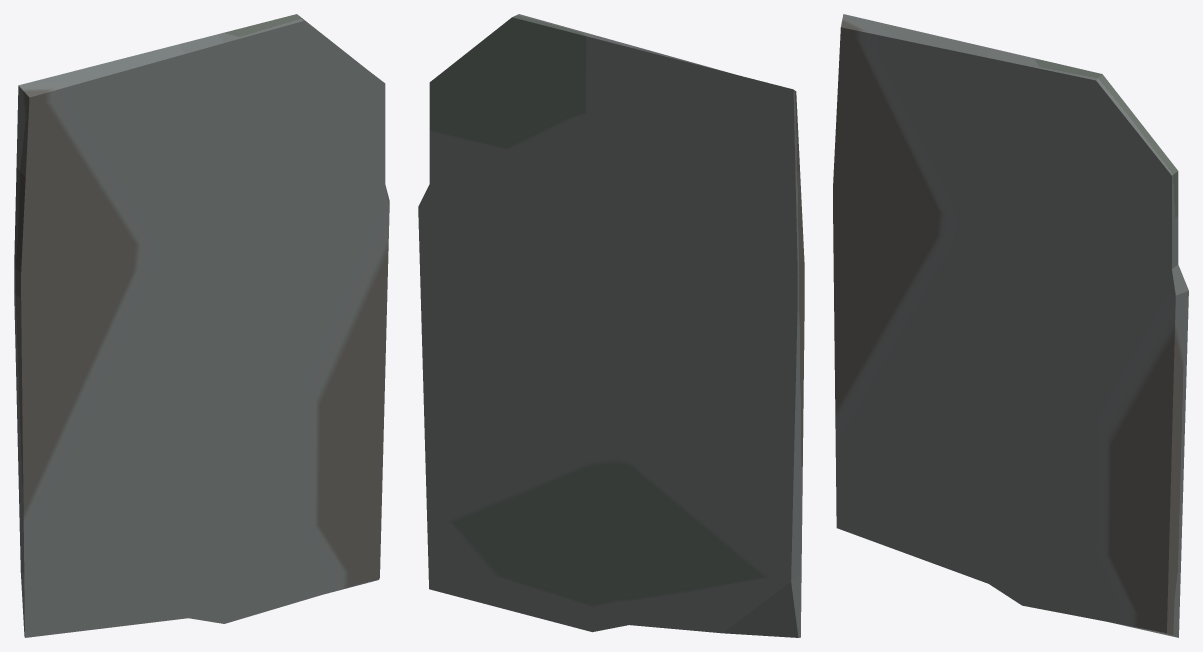
File: SM_Metal_Sheet_B.gltf
3 renders of one model, left to right at view 1: azimuth 30°, elevation 25°; view 2: azimuth 150°, elevation 25°; view 3: azimuth 330°, elevation 25°, orthographic. The views are drawn at different scales.
Parts seen in each view (by area): view 1: SM_Metal_Sheet_B; view 2: SM_Metal_Sheet_B; view 3: SM_Metal_Sheet_B.
Part boxes in pixels (x1=…): SM_Metal_Sheet_B: x1=14, y1=14, x2=389, y2=637; SM_Metal_Sheet_B: x1=418, y1=14, x2=804, y2=637; SM_Metal_Sheet_B: x1=833, y1=14, x2=1188, y2=637.
Size of the model in its own units: 0.9636 by 1.44 by 0.0309.
1 material, 1 textured.
